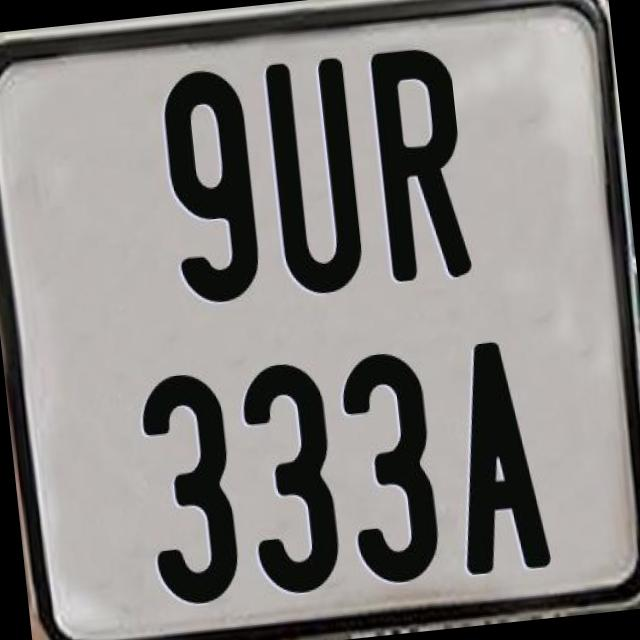3: (137, 368, 248, 614), (338, 349, 447, 586), (236, 359, 340, 595)
9: (157, 61, 268, 304)
A: (443, 335, 551, 575)
R: (369, 46, 471, 283)
U: (262, 51, 370, 292)
